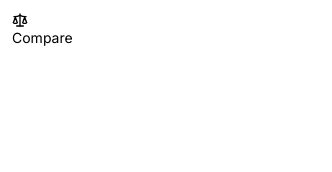
Test: AddToCompareButton › toggles the product in the list and reports state to assistive technology
Step 1. Click the button "Compare" → click(42, 30), box [12,12,73,48]
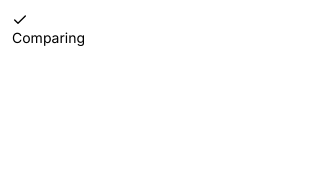
Expected: the button named "Compare" is pressed
Step 2. Click the button named "Compare" → click(49, 30), box [12,12,85,48]
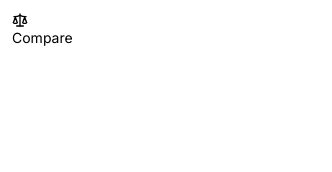
Expected: the button "Compare" is not pressed, [12,12,73,48]
